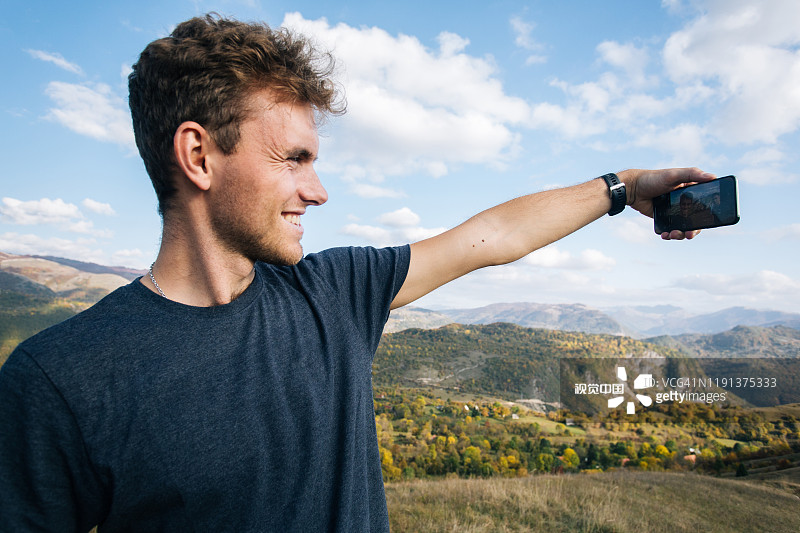taking photos: (616, 158, 752, 254)
